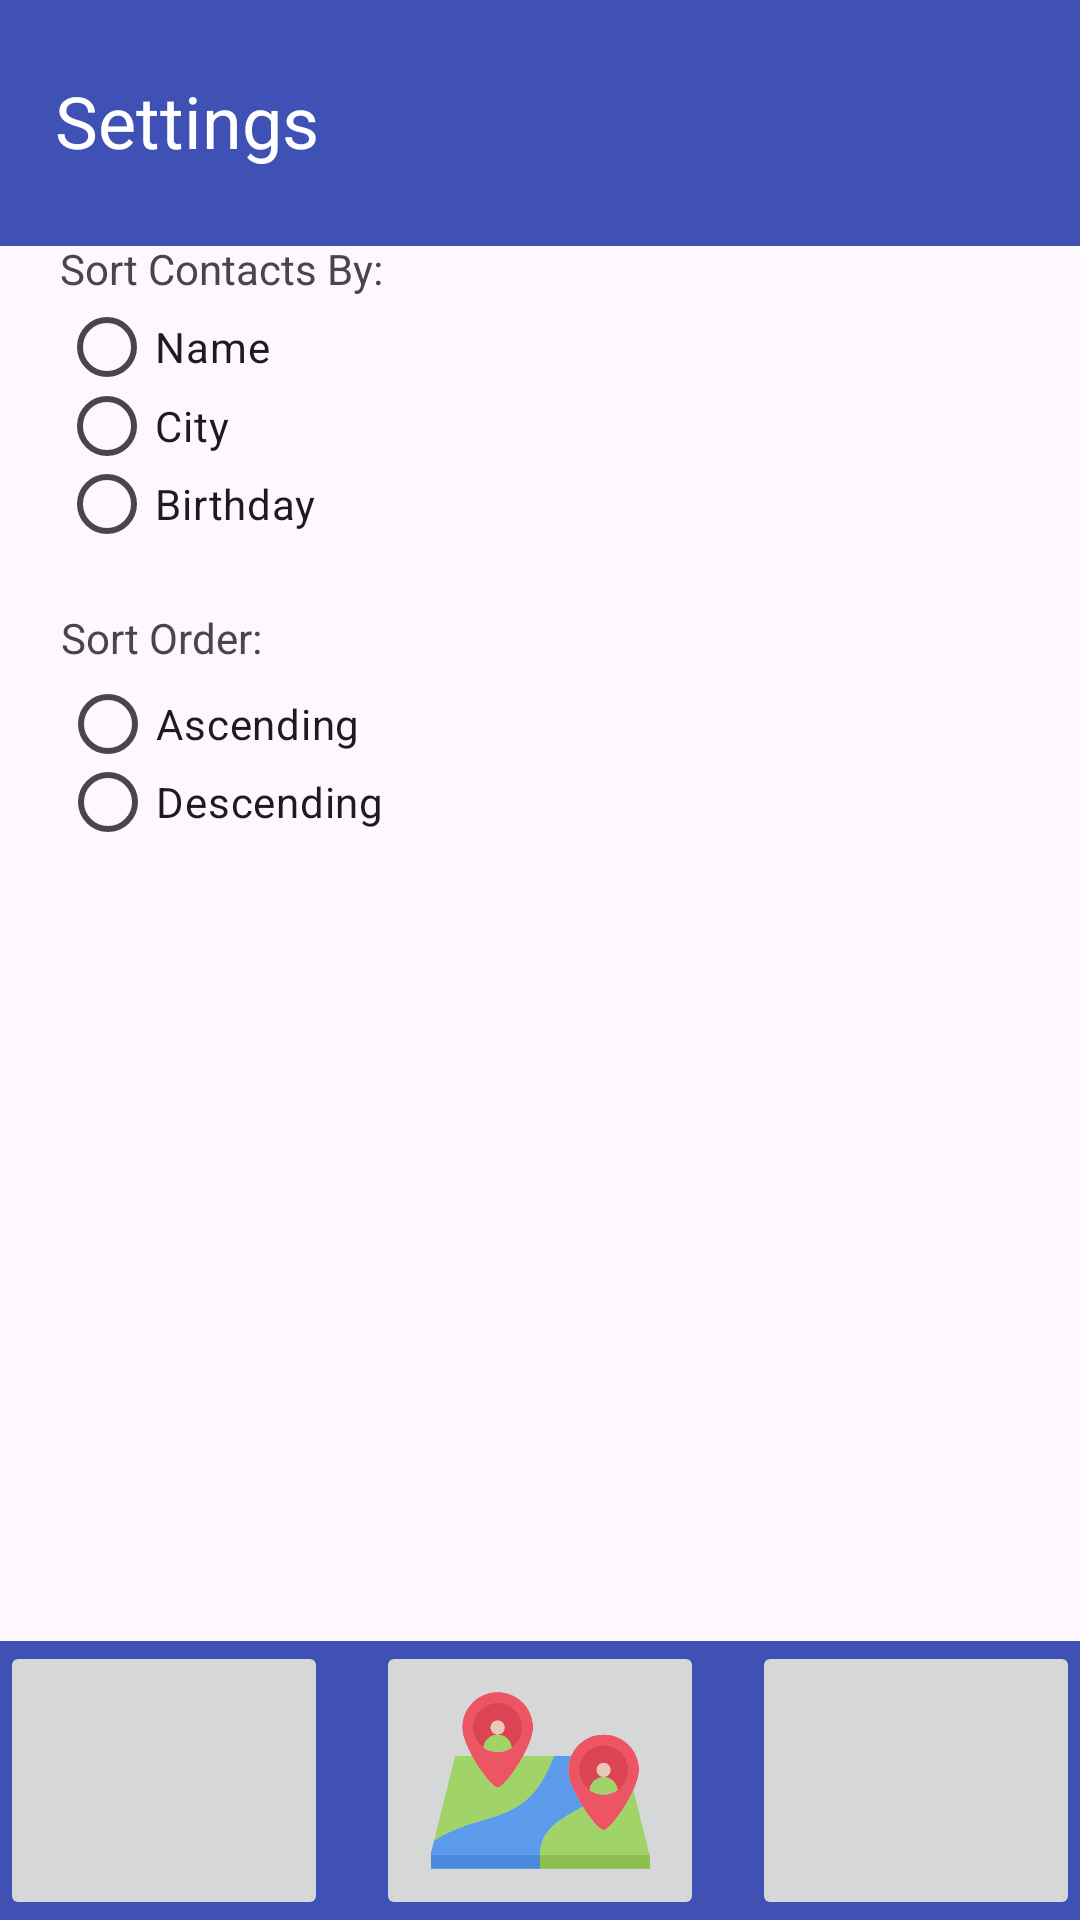

Icon click points for this 1080 x 1920 phone screenshot, format (x,y):
map icon: (540,1780)
